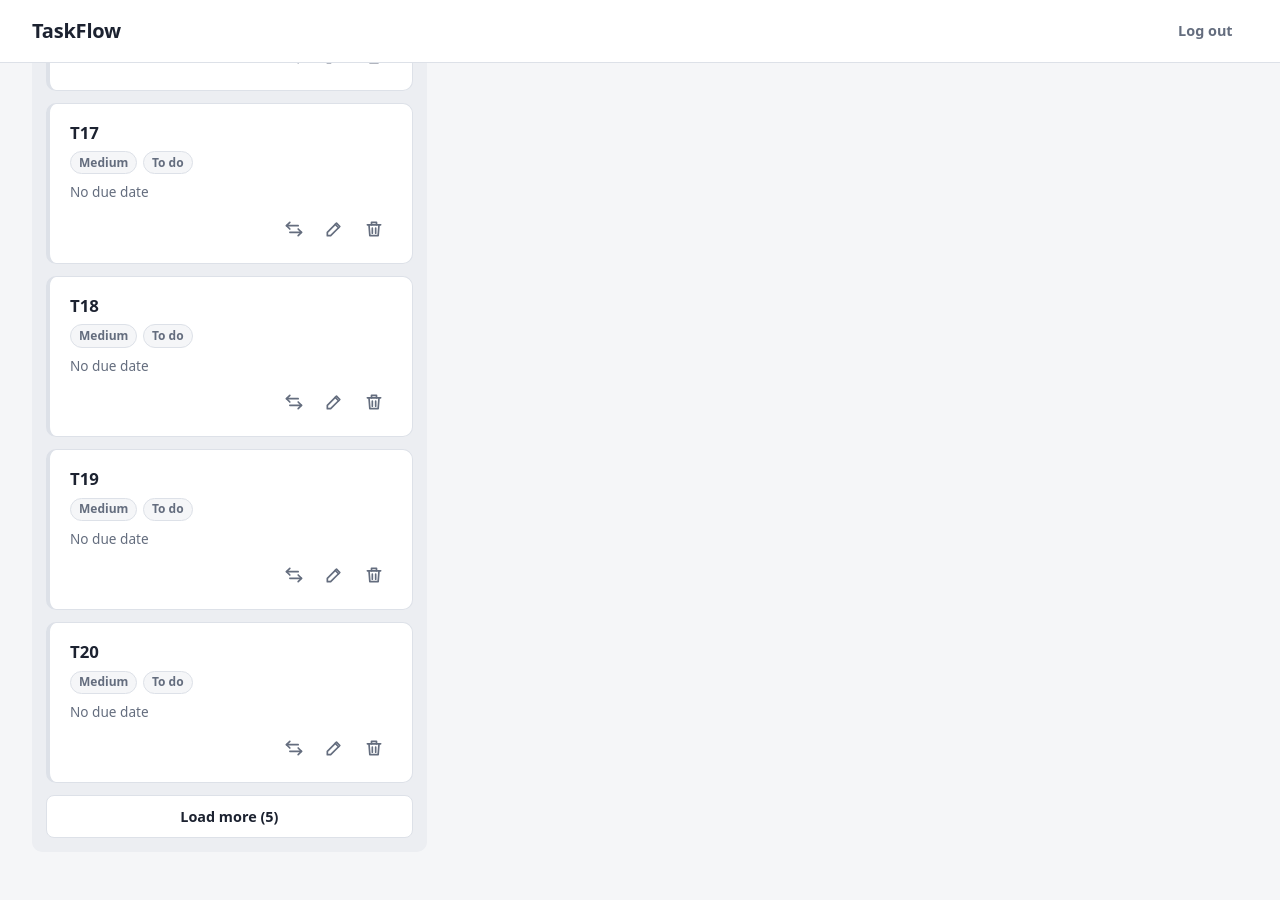
Test: TasksPage › says so in the column when Load more fails
The image size is (1280, 900).
(page scrolled)
Check: the heading "T20" is shown, box x1=70 y1=640 x2=99 y2=663
Click the button "Load more (5)" at [229, 817], box x1=46 y1=795 x2=413 y2=838
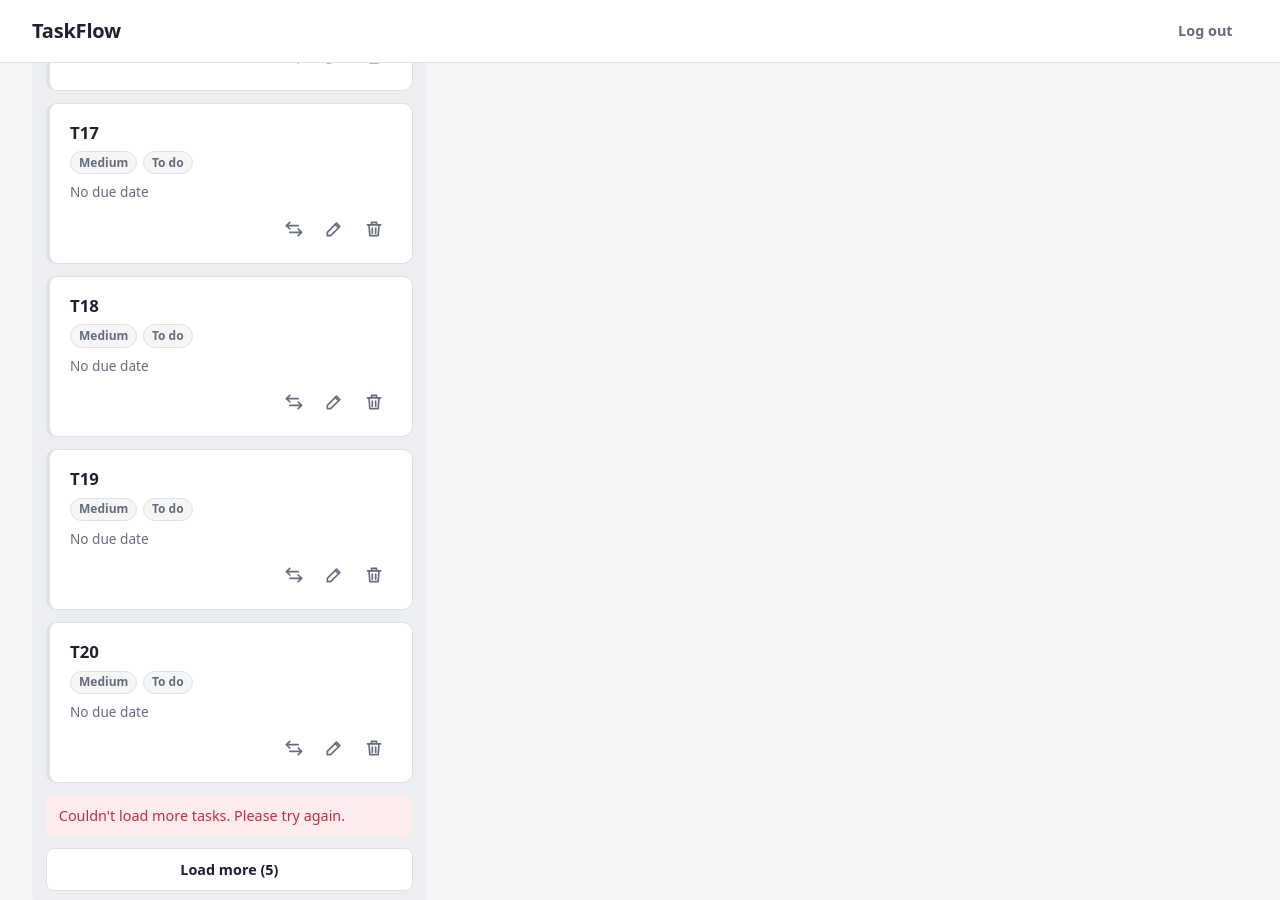
Check: the message shows "Couldn't load more tasks.", box x1=59 y1=806 x2=345 y2=825
